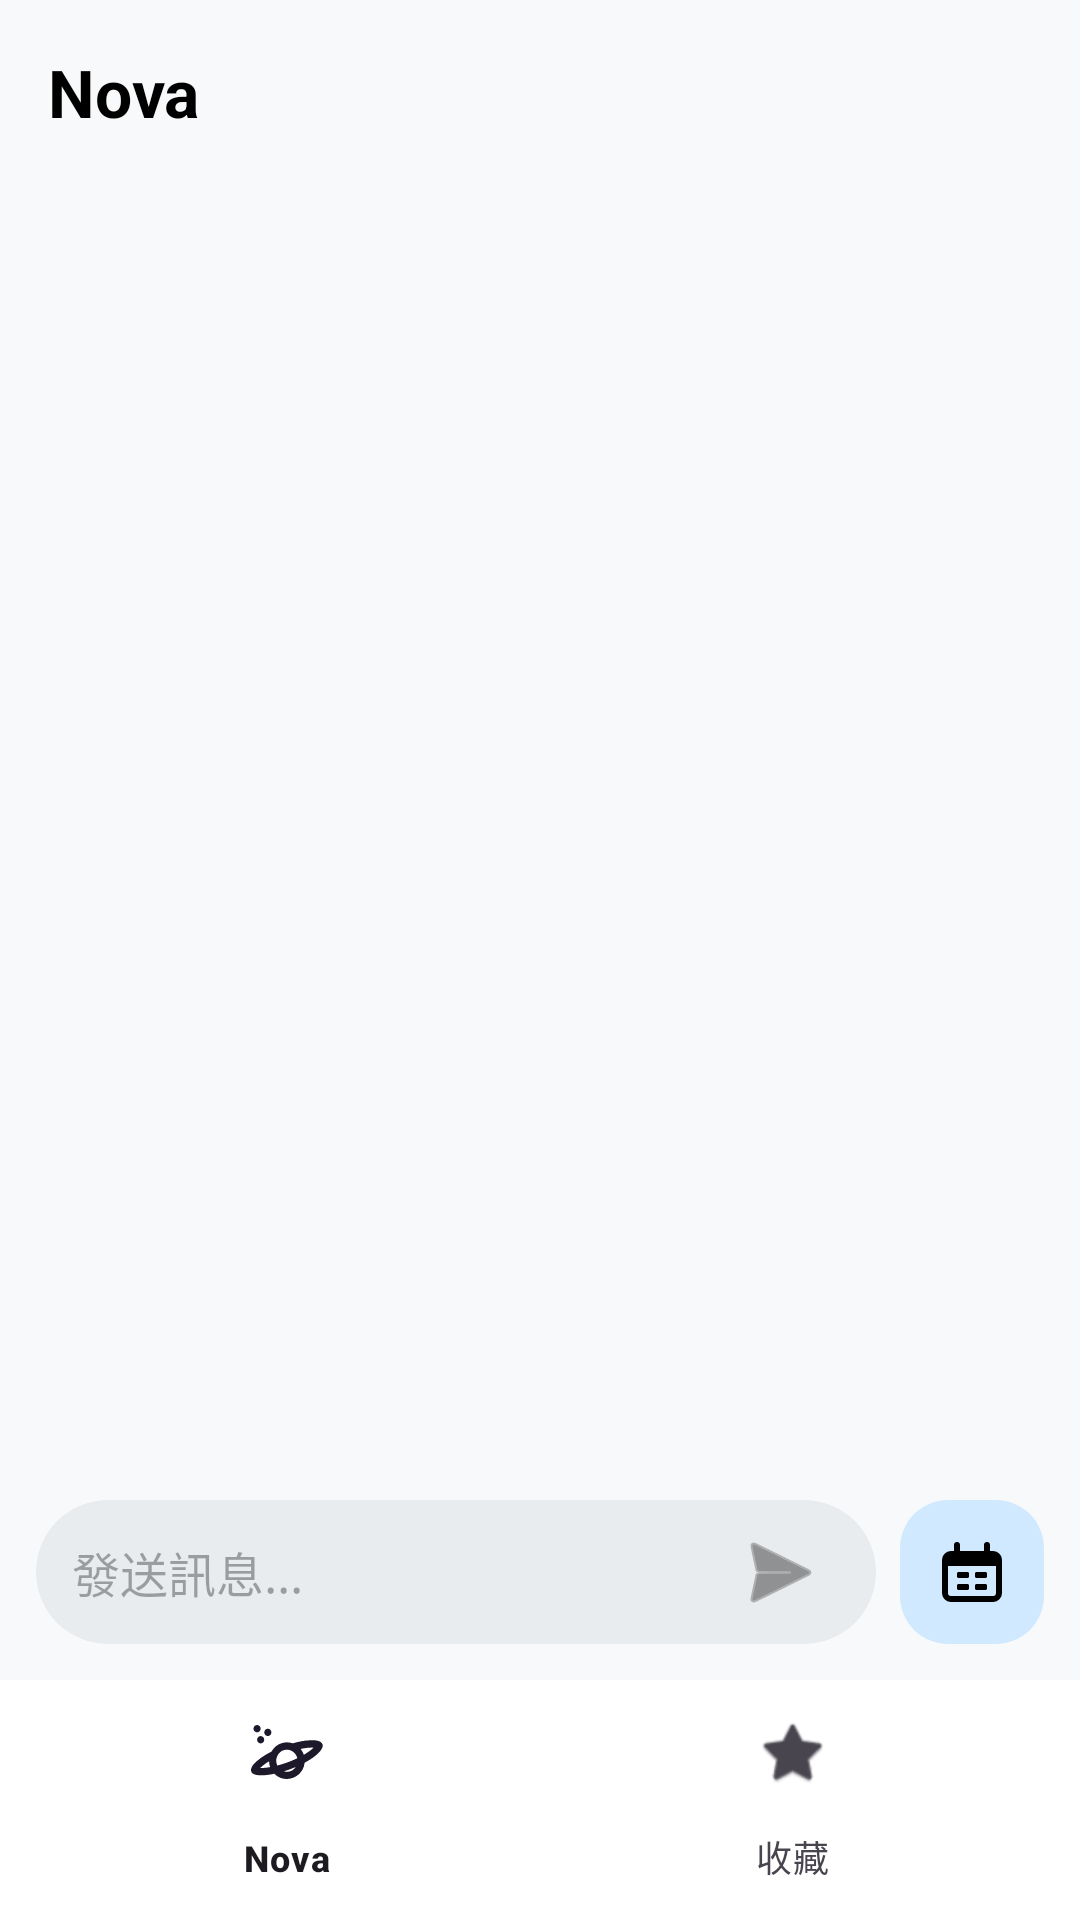

Locate icon controls on the screen. Image size 1080 x 1920, boxes as (x1, y1, x2, y2).
date picker: (900, 1500, 1044, 1644)
send: (750, 1542, 811, 1603)
